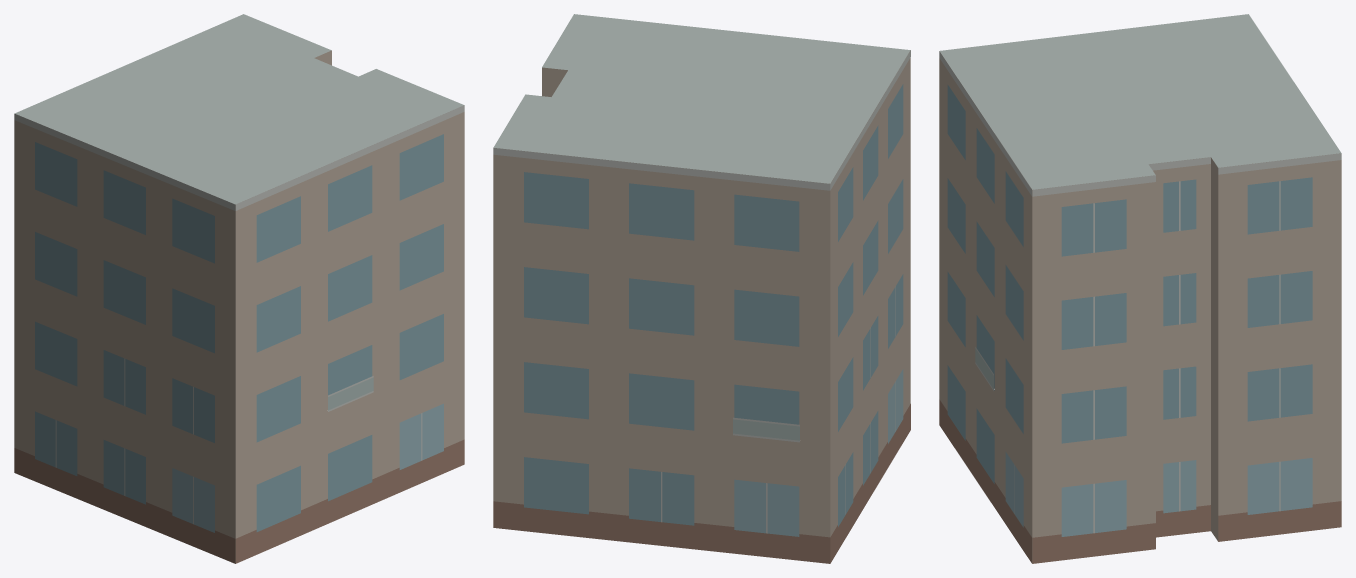
The model's file is survey-upis-32705521.glb.
3 renders of one model, left to right at view 1: azimuth 30°, elevation 25°; view 2: azimuth 150°, elevation 25°; view 3: azimuth 270°, elevation 25°, orthographic. The views are drawn at different scales.
Visible parts, largest first — view 1: survey-upis-32705521.tmp; view 2: survey-upis-32705521.tmp; view 3: survey-upis-32705521.tmp.
Part boxes in pixels (left/top/right/bottom): survey-upis-32705521.tmp: left=14, top=14, right=464, bottom=563; survey-upis-32705521.tmp: left=493, top=14, right=910, bottom=563; survey-upis-32705521.tmp: left=939, top=14, right=1341, bottom=563.
Bounding box in the file's own units: 13.42 × 13.3 × 12.97.
